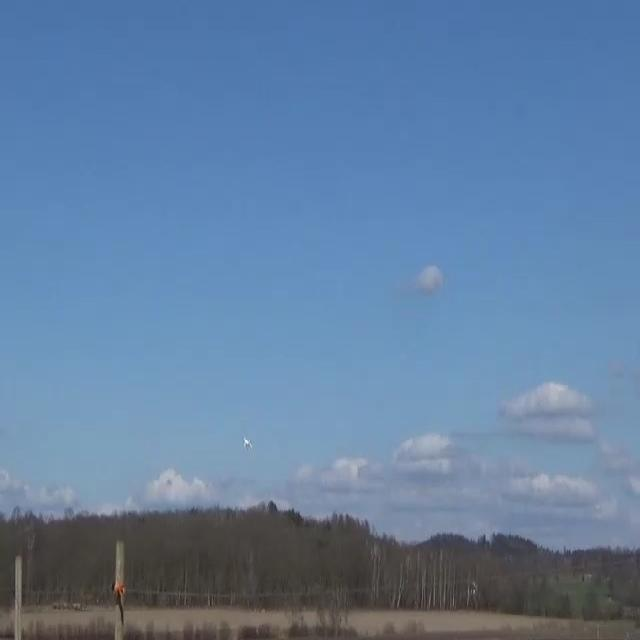drone: (242, 435, 252, 450)
